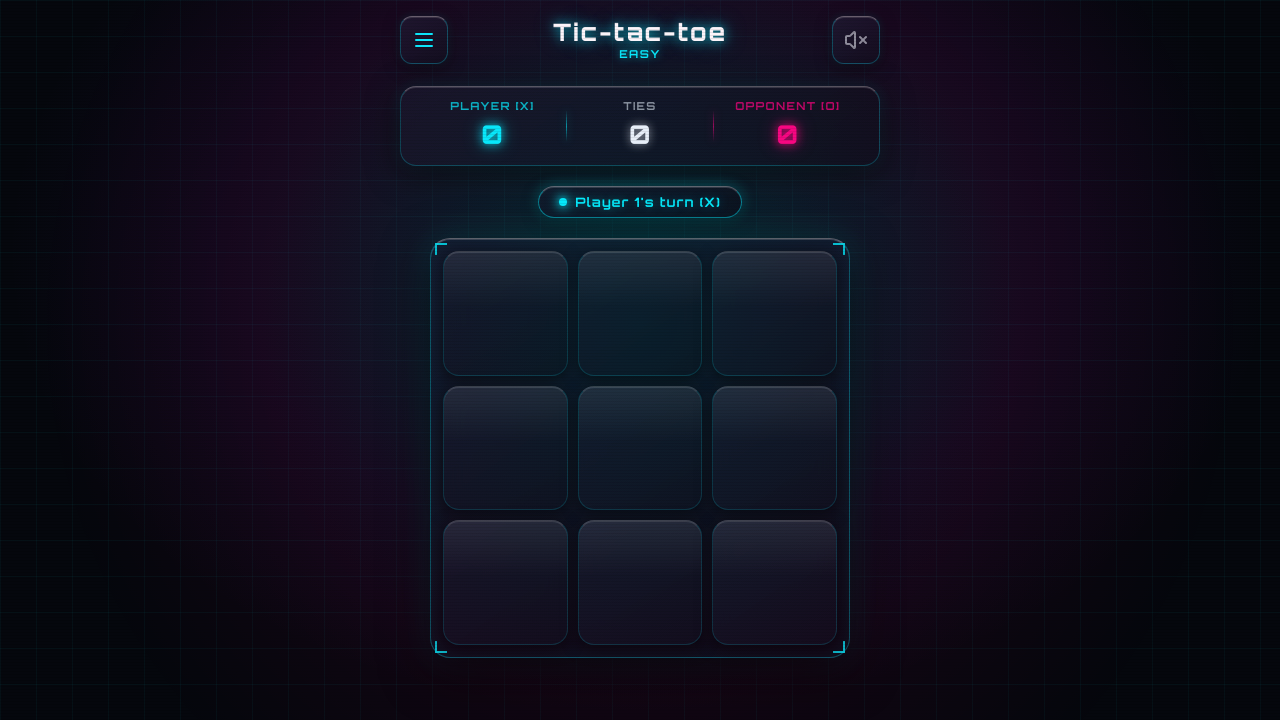
Test: Menu, Dialogs & ResultSheet › Hamburger menu opens MenuDrawer and How to Play opens modal
Click the button named "open menu" at (424, 40), box [400,16,448,64]
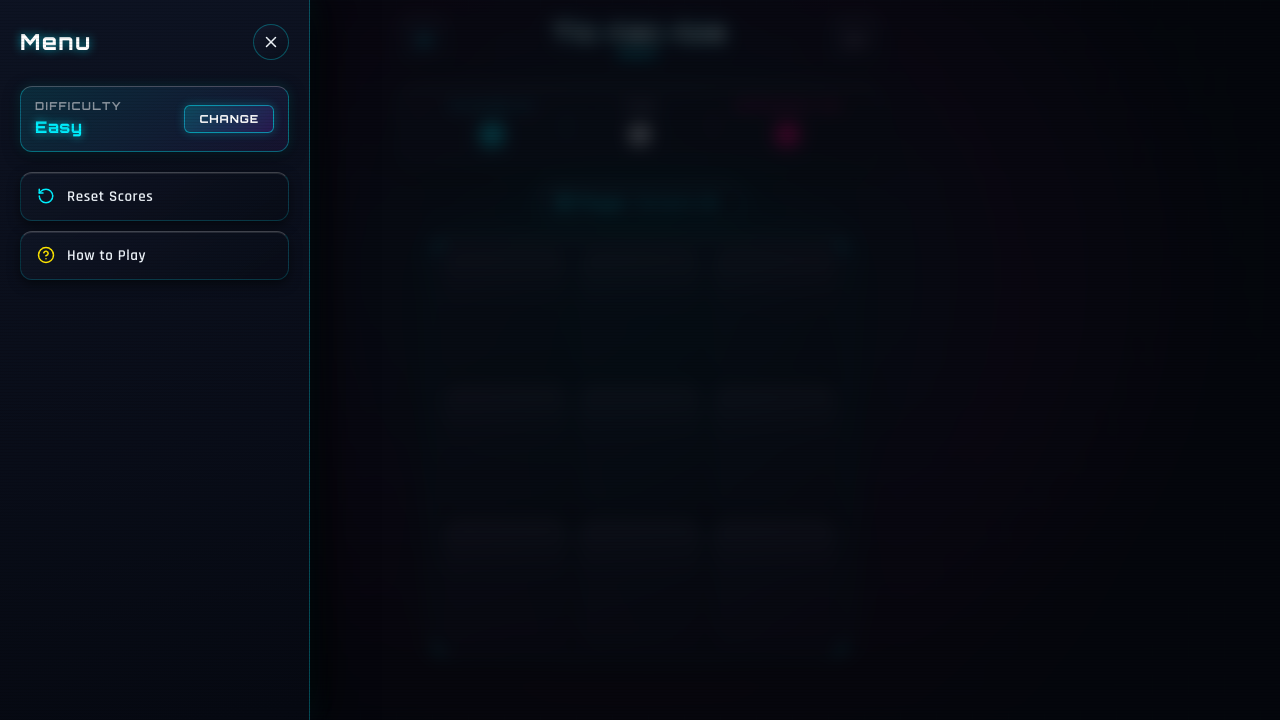
expect the dialog "Menu Difficulty Easy Change Reset Scores How to Play" is shown: met
Click the button "How to Play" at (107, 255), box [20,231,289,280]
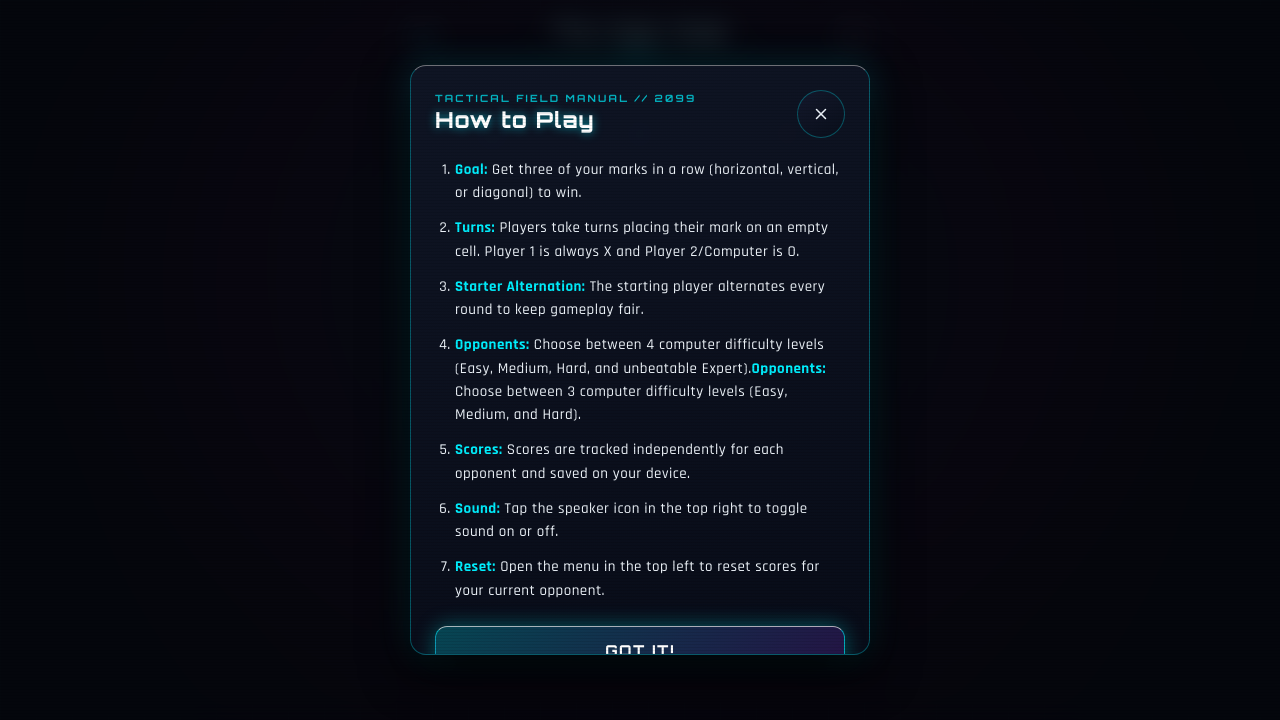
expect the dialog "How to Play" is shown: met
expect the text "Goal:" is shown: met, box [455,160,488,179]
